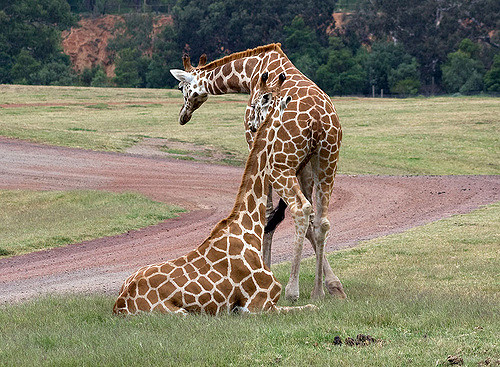giraffe: (183, 45, 360, 300), (122, 102, 306, 314)
